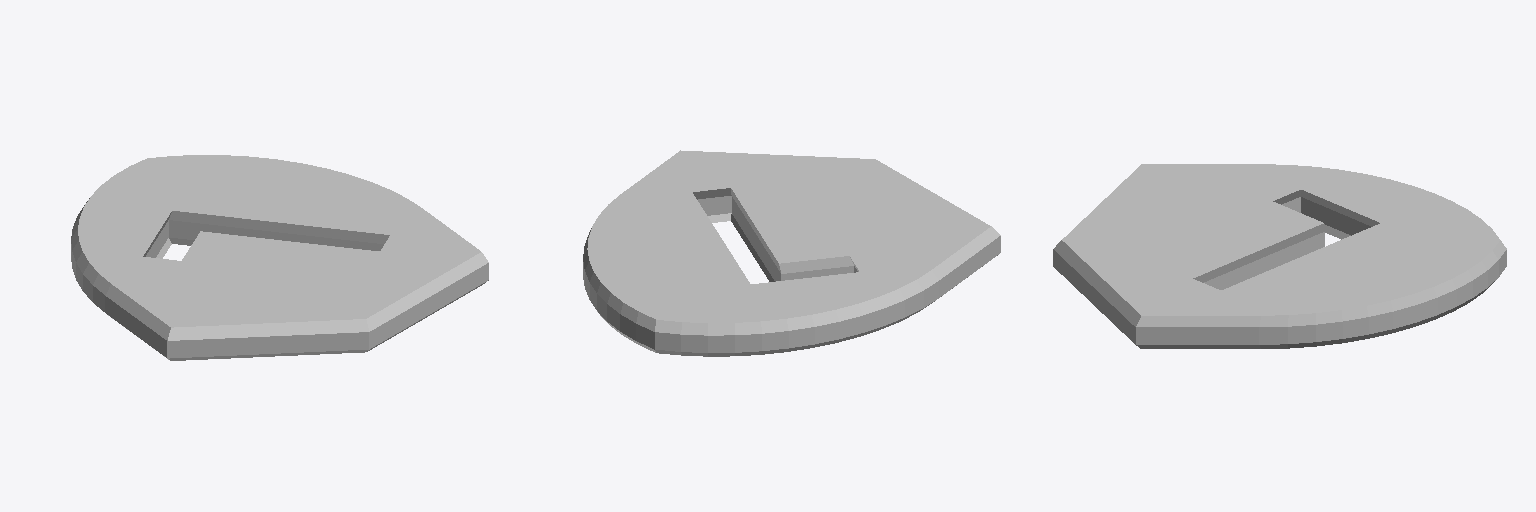
Rendered from Protection.obj.
The picture shows the model from 3 angles: view 1: azimuth 30°, elevation 25°; view 2: azimuth 150°, elevation 25°; view 3: azimuth 270°, elevation 25°; orthographic projection.
Visible parts, largest first — view 1: Curve.002_Curve.005; view 2: Curve.002_Curve.005; view 3: Curve.002_Curve.005.
Boxes of the visible parts, x1=… form: Curve.002_Curve.005: x1=71, y1=155, x2=488, y2=360; Curve.002_Curve.005: x1=583, y1=150, x2=1000, y2=356; Curve.002_Curve.005: x1=1053, y1=164, x2=1506, y2=348.
Bounding box in the file's own units: 10.85 × 1.07 × 13.26.